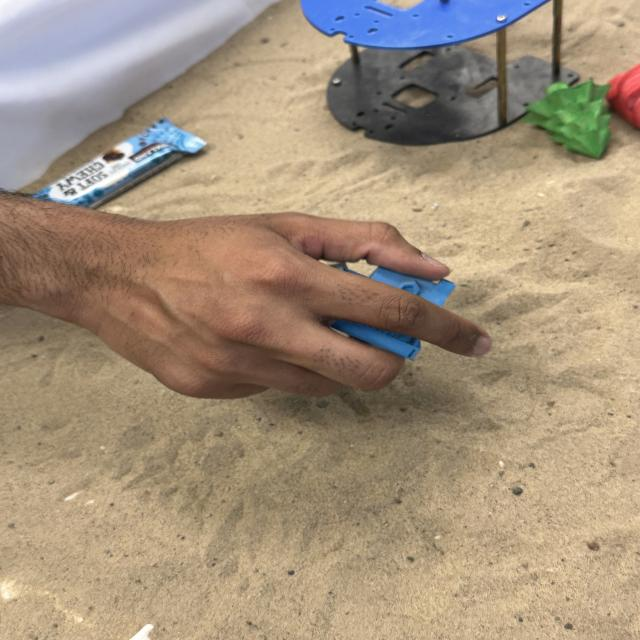tree: (526, 78, 614, 158)
